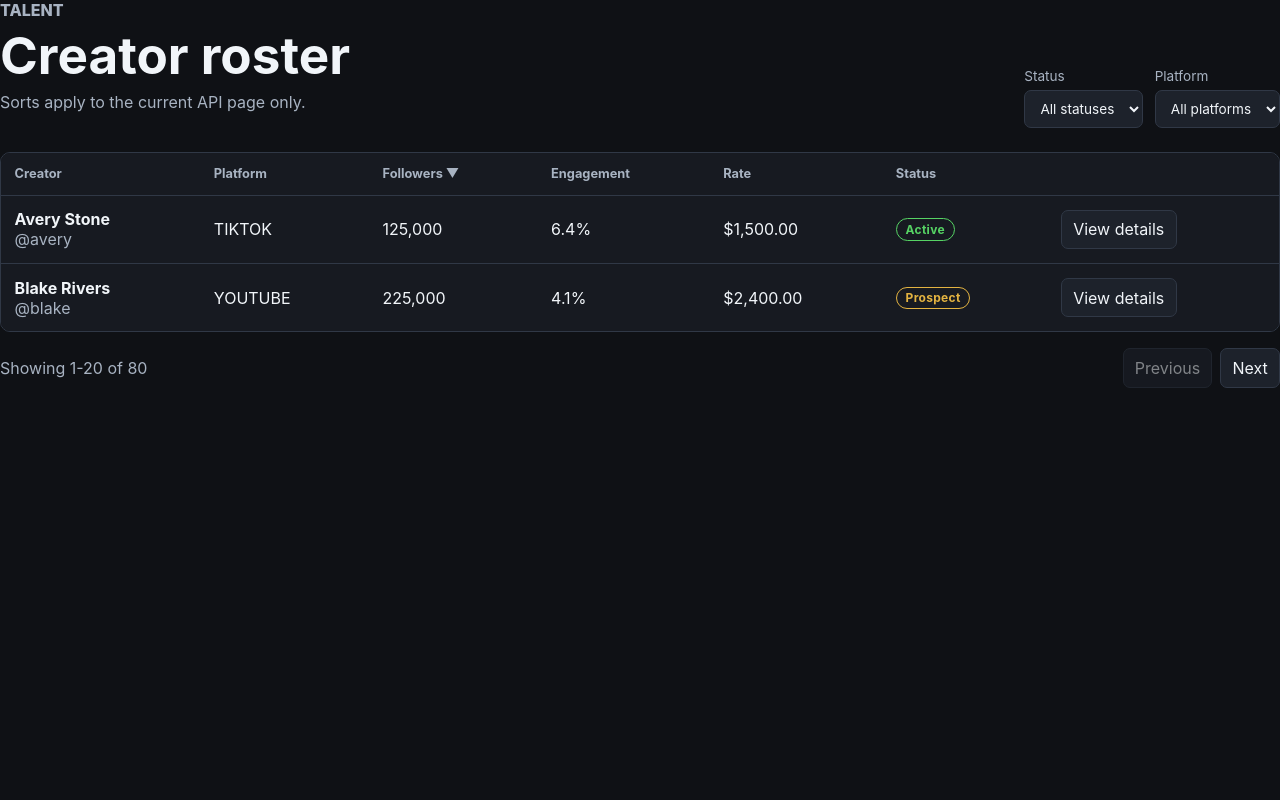
Scenario: CreatorRosterComponent › renders creators and opens the correct detail after sorting
Click the button "Followers ▼".
click(421, 174)  # box [382,166,459,181]
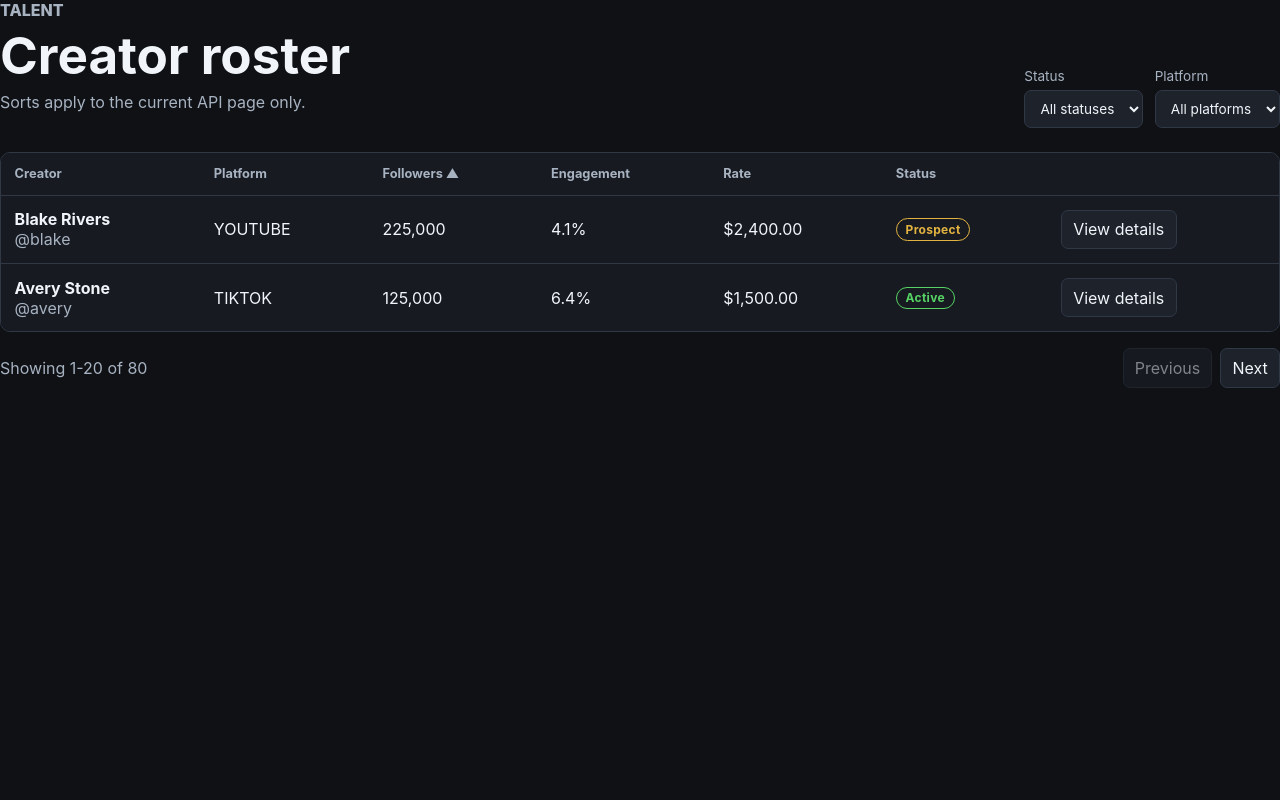
Click the button "View details" in the row of "Blake Rivers".
click(1119, 229)  # box [1061,210,1176,249]
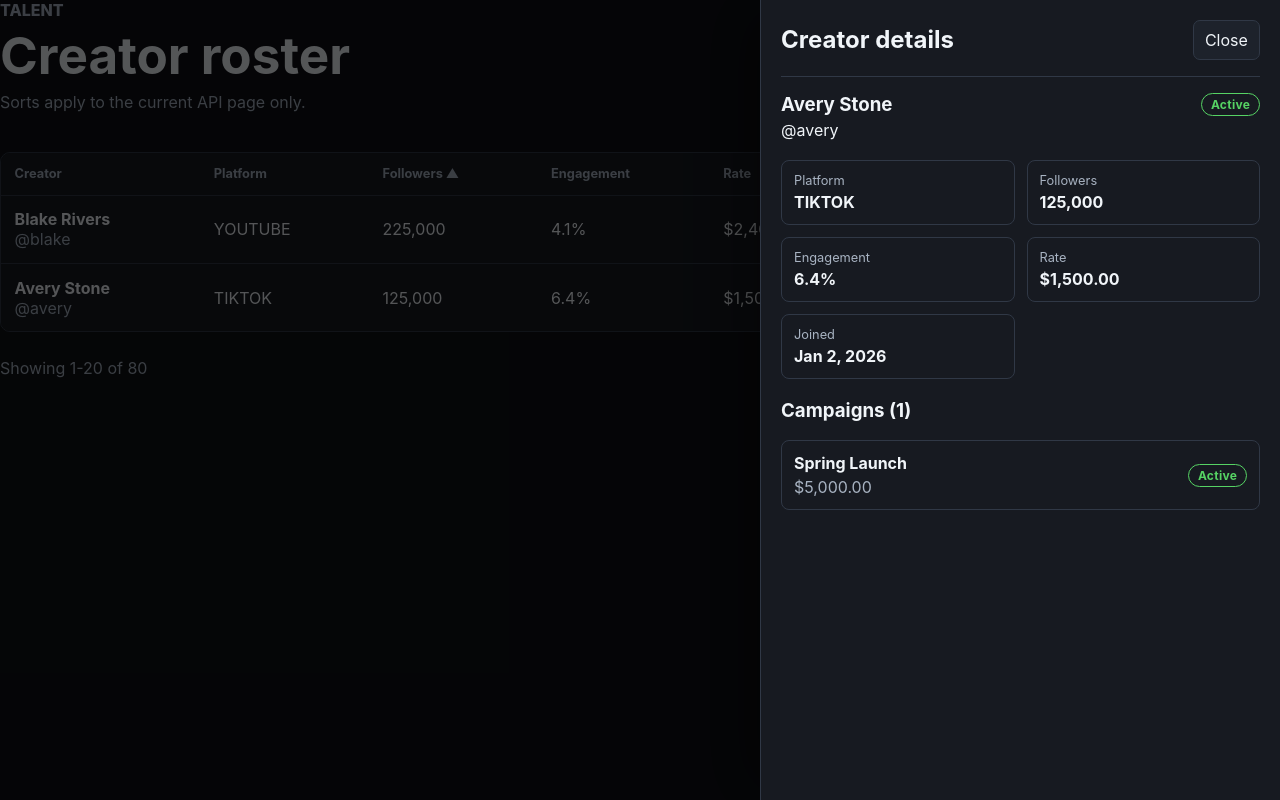
Check: the text "Creator details" is shown, box [781,25,954,54]
